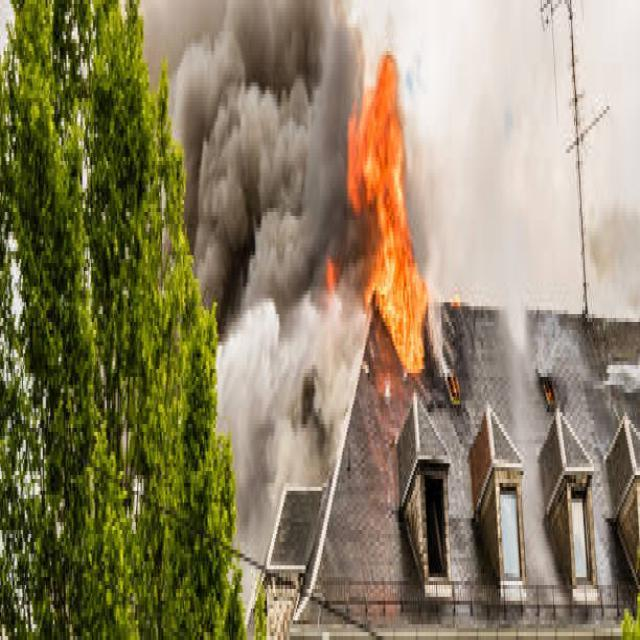Fire: (346, 0, 428, 374)
Smoke: (135, 0, 363, 338)
